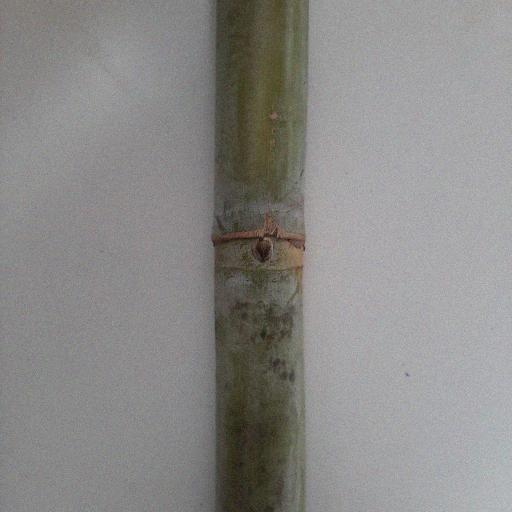Bud: (253, 239, 274, 263)
